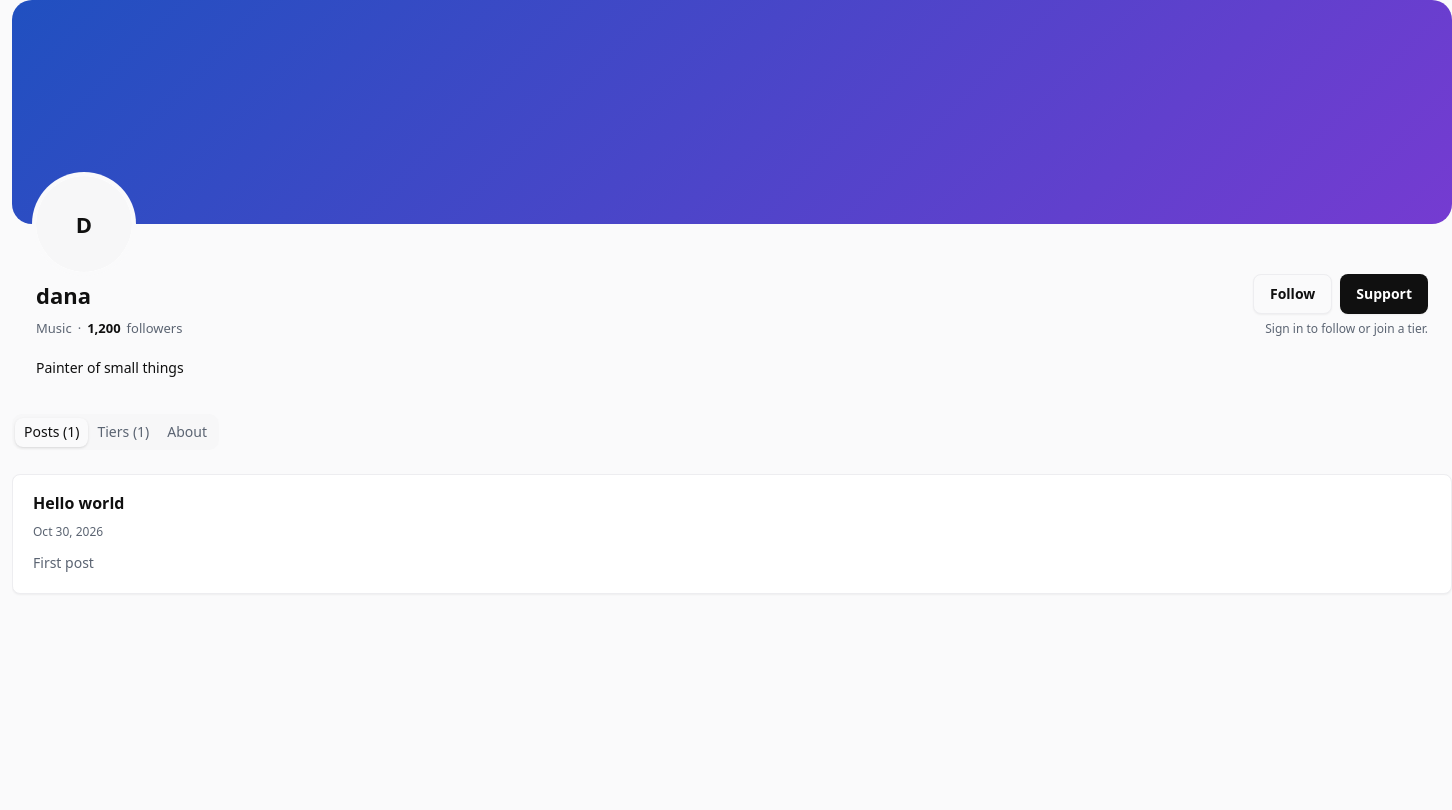
Scenario: CreatorPageView (FE-PAGE-01) › prices a tier in Toman with the unit attached
This screenshot has width=1452, height=810.
Click the tab "Tiers (1)": (123,432) 88,418 -> 158,446
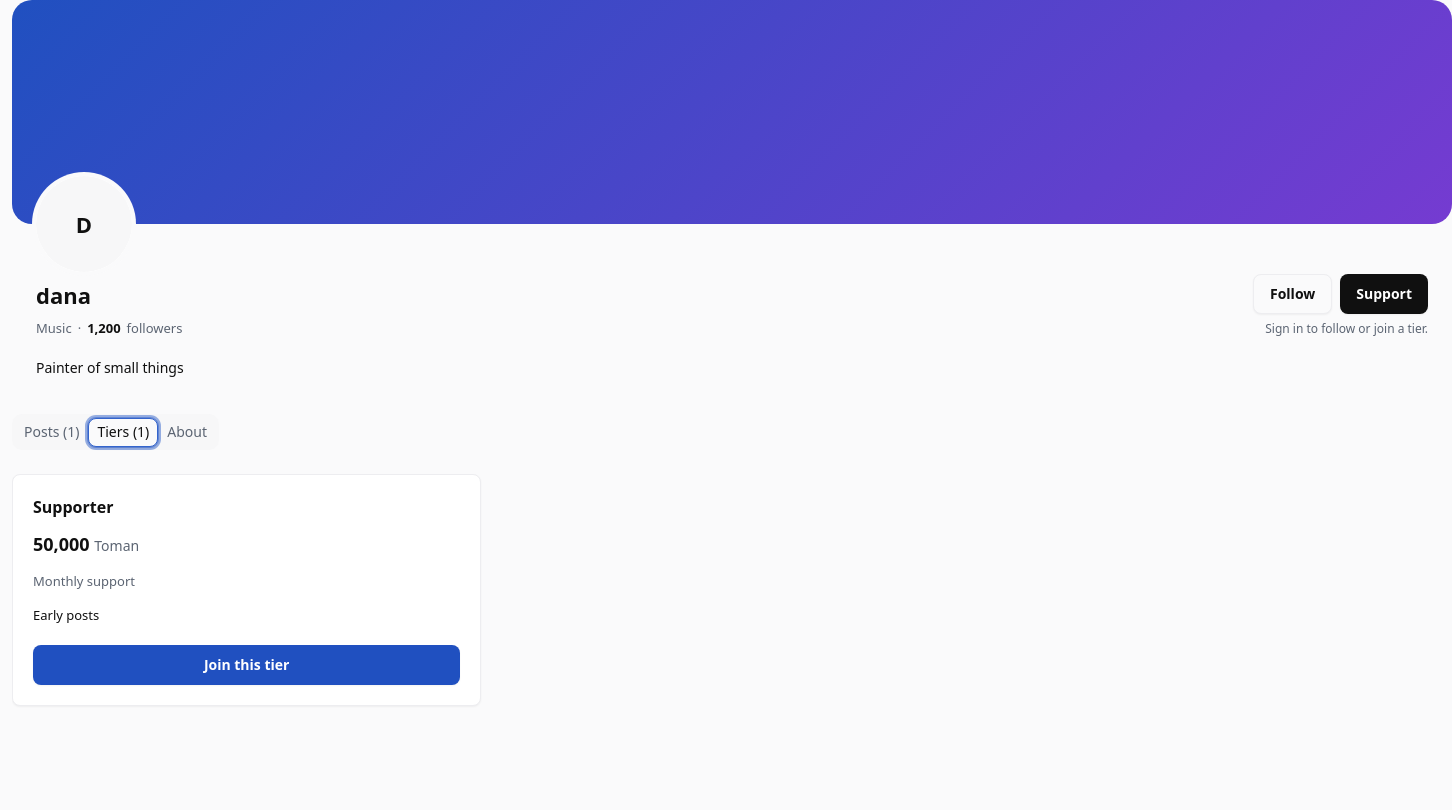
Check: the element "Supporter" is shown, box 12,474 -> 481,706
Check: the text "50,000" reads "50,000 Toman", box 33,532 -> 139,556
